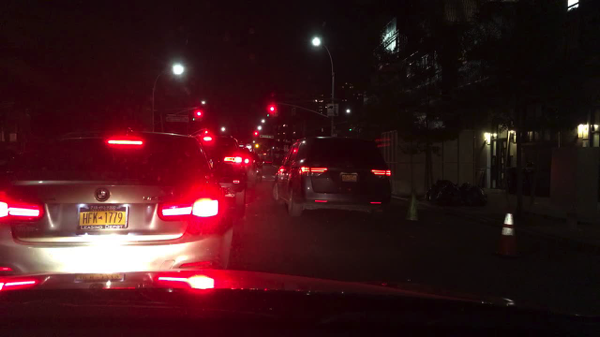car: (0, 126, 235, 273), (272, 133, 392, 220), (193, 130, 248, 219), (242, 145, 254, 182), (252, 152, 266, 181)
traffic light: (197, 109, 201, 119), (270, 104, 274, 112), (254, 131, 258, 137), (254, 143, 259, 147)
traffic sign: (165, 116, 188, 122), (327, 103, 338, 115), (261, 134, 273, 139), (289, 108, 296, 116)
